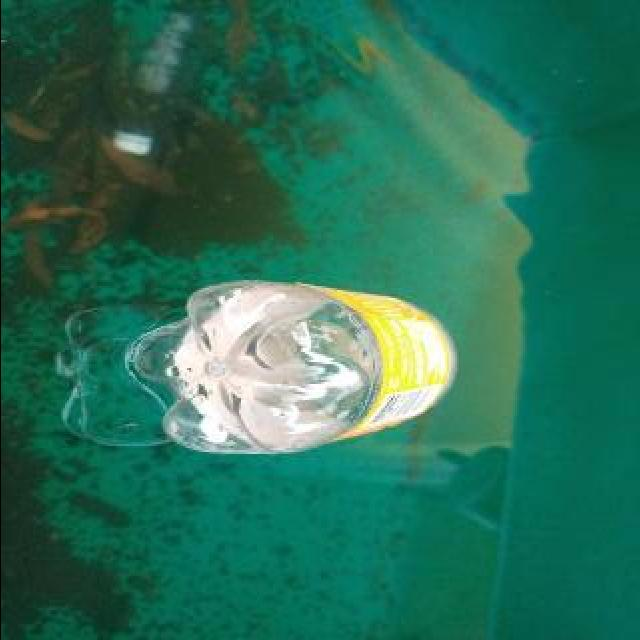Bottle: (116, 264, 466, 466)
